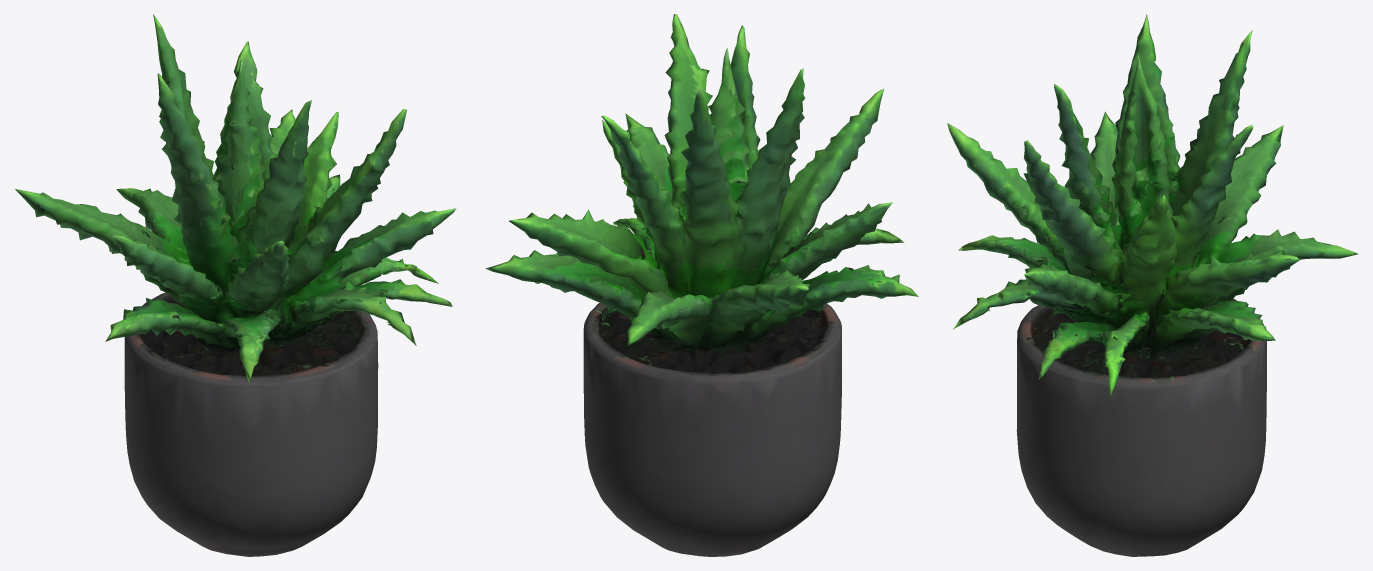
File: plant.glb
3 views of the same model, side by side, from view 1: azimuth 30°, elevation 25°; view 2: azimuth 150°, elevation 25°; view 3: azimuth 270°, elevation 25° (orthographic). The views are drawn at different scales.
Size of the model in its own units: 1.49 by 2 by 1.55.
1 material, 1 textured.
